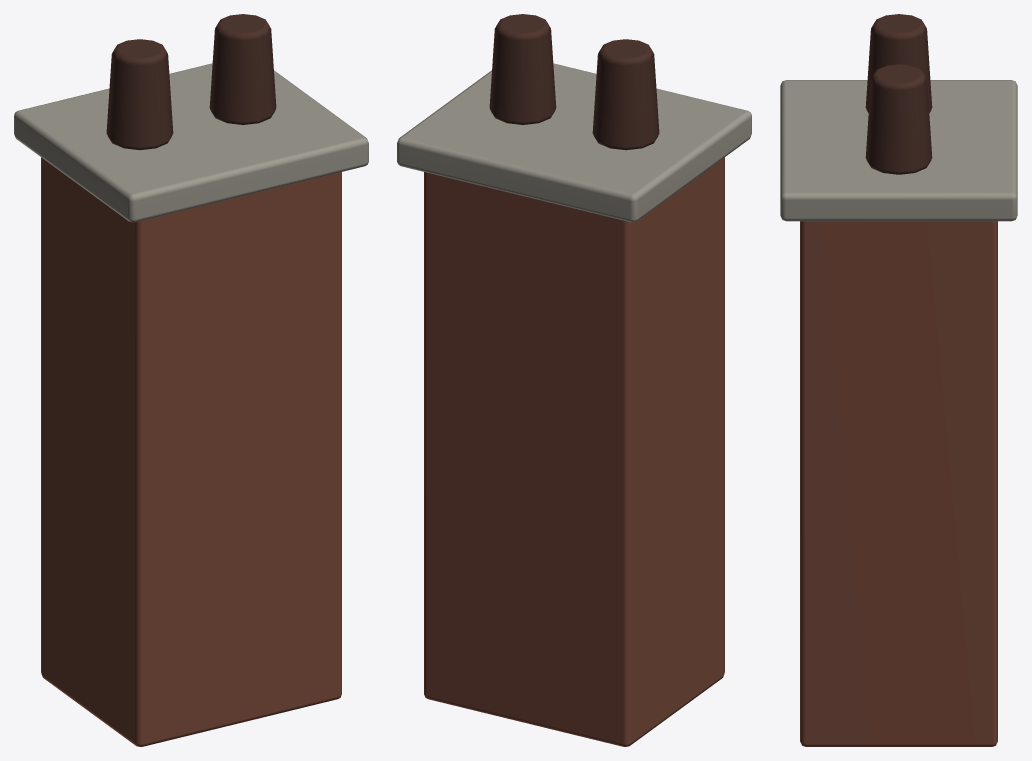
File: schoorsteen.glb
The picture shows the model from 3 angles, left to right: view 1: azimuth 30°, elevation 25°; view 2: azimuth 150°, elevation 25°; view 3: azimuth 270°, elevation 25°; orthographic projection.
Parts seen in each view (by area): view 1: Schoorsteen; view 2: Schoorsteen; view 3: Schoorsteen.
Boxes of the visible parts, box(x1,y1,x2,y2) form: Schoorsteen: box(14, 14, 368, 746); Schoorsteen: box(397, 14, 751, 746); Schoorsteen: box(780, 14, 1017, 746).
Size of the model in its own units: 1.4 by 3.63 by 1.2.
